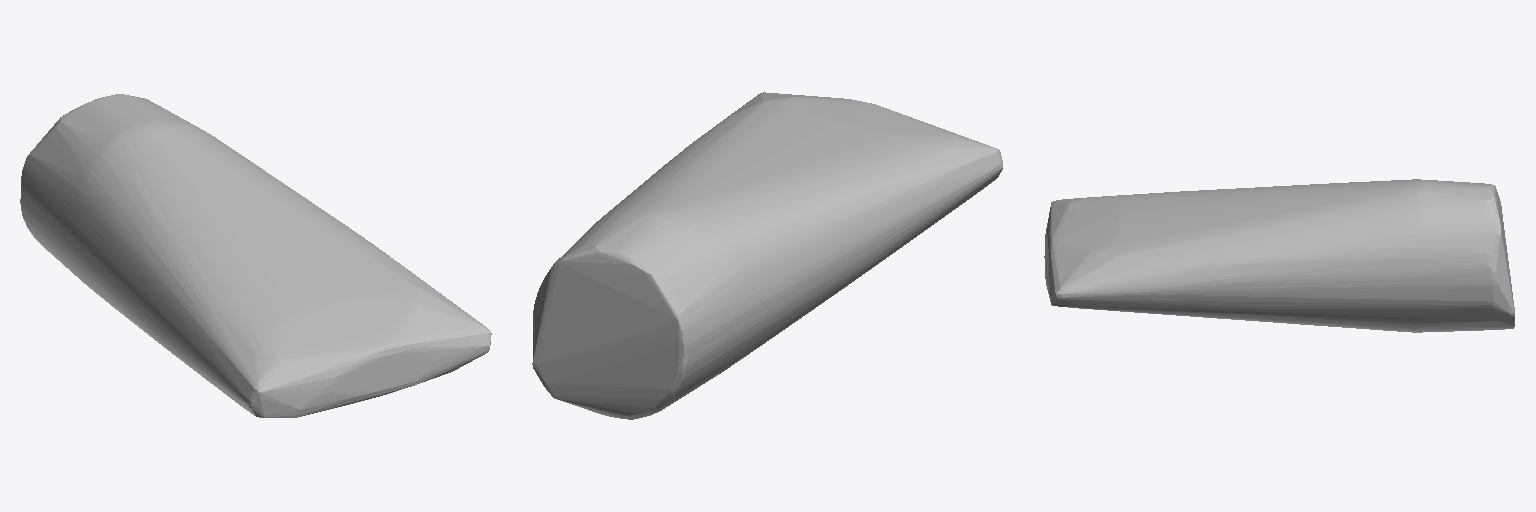
The robot description file, URDF, robot "root":
<robot name="root">
  <link name="link_coacd_convex_piece_0">
    <inertial>
      <origin xyz="0 0 0" rpy="0 0 0"/>
      <inertia ixx="2.51E-07" ixy="-1.38E-09" ixz="-8.80E-10" iyy="4.91E-08" iyz="2.85E-09" izz="2.72E-07"/>
    </inertial>
    <visual>
      <origin xyz="0 0 0" rpy="0 0 0"/>
      <geometry>
        <mesh filename="coacd_convex_piece_0.obj" scale="1.0000E+00 1.0000E+00 1.0000E+00"/>
      </geometry>
      <material name="">
        <color rgba="7.50E-01 7.50E-01 7.50E-01 1"/>
      </material>
    </visual>
    <collision>
      <origin xyz="0 0 0" rpy="0 0 0"/>
      <geometry>
        <mesh filename="coacd_convex_piece_0.obj" scale="1.0000E+00 1.0000E+00 1.0000E+00"/>
      </geometry>
    </collision>
  </link>
</robot>

--- Render facts (derived) ---
Views: 3 orthographic renders of the robot side by side, from view 1: azimuth 30°, elevation 25°; view 2: azimuth 150°, elevation 25°; view 3: azimuth 270°, elevation 25°.
Model root with 1 links and 0 joints (none), rooted at link_coacd_convex_piece_0, posed every joint at zero.
Visible links, largest first — view 1: link_coacd_convex_piece_0; view 2: link_coacd_convex_piece_0; view 3: link_coacd_convex_piece_0.
Link boxes in pixels (x1,y1,x2,y2): link_coacd_convex_piece_0: [20, 94, 491, 417]; link_coacd_convex_piece_0: [532, 92, 1002, 419]; link_coacd_convex_piece_0: [1044, 179, 1514, 332].
Size in the robot's own frame: 0.0679 by 0.1405 by 0.0452 metres.
1 mesh visuals loaded from 1 distinct referenced files (1 OBJ).